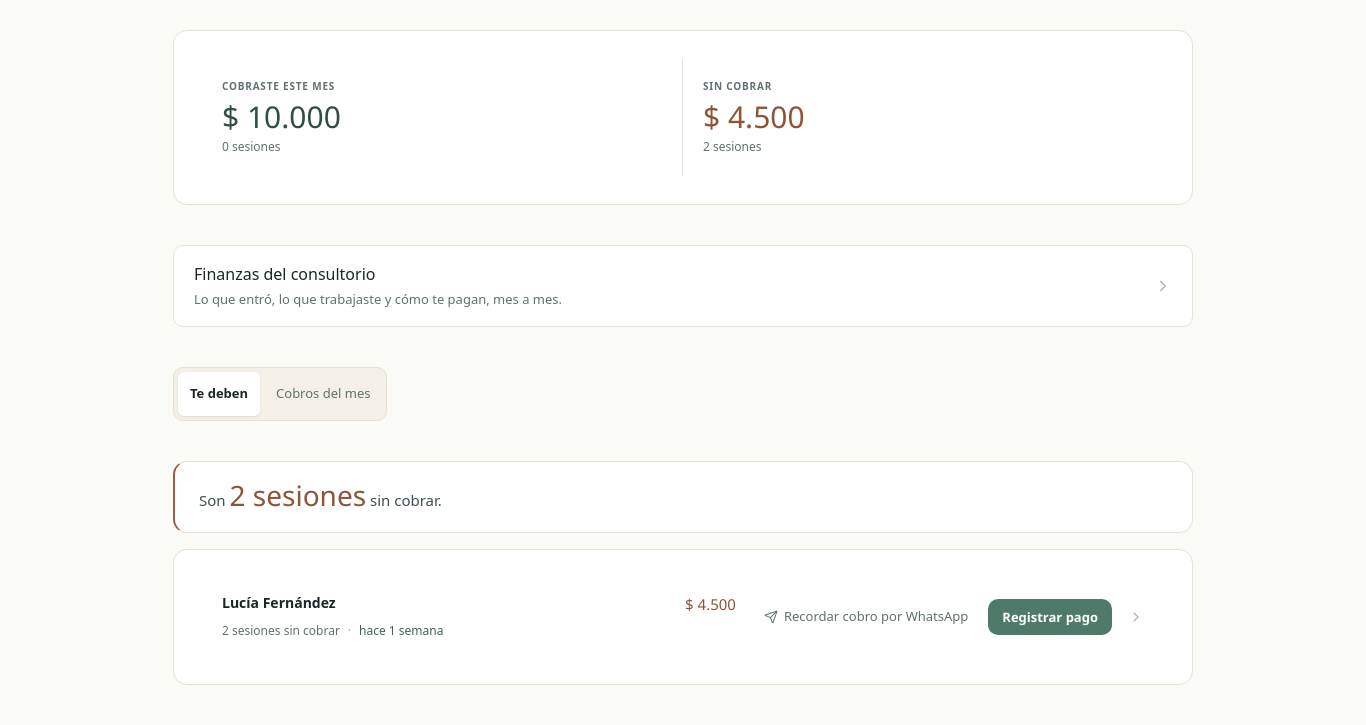
Test: Te deben: registrar pago › muestra las sesiones sin cobrar con fecha y monto, cobra la elegida y actualiza deuda e ingresos sin salir de Cobros
(page scrolled)
Click the button "Registrar pago". click: (1050, 617)
box: [988,599,1112,635]
(page scrolled)
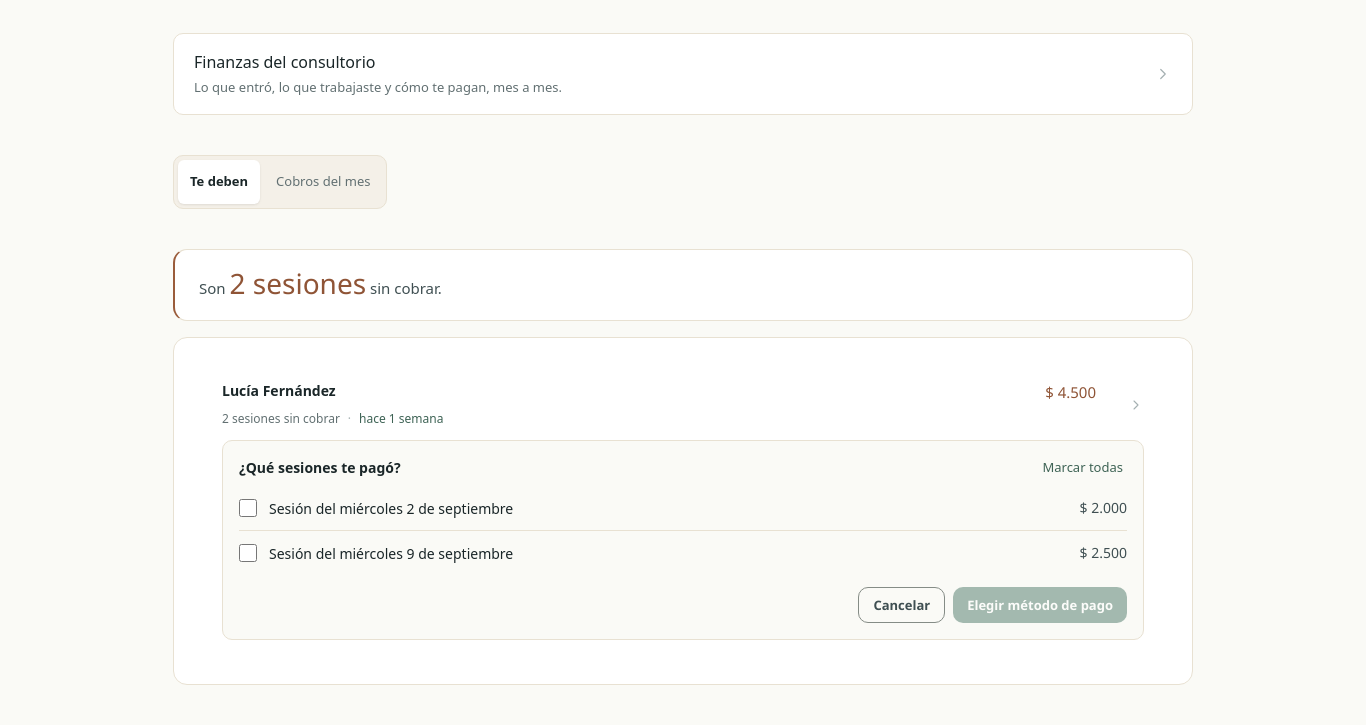
Check: the button "Elegir método de pago" is disabled, box [953,587,1127,623]
Click the checkbox labelled "Sesión del miércoles 2 de septiembre $ 2.000". click: (248, 508)
box: [239,499,257,517]
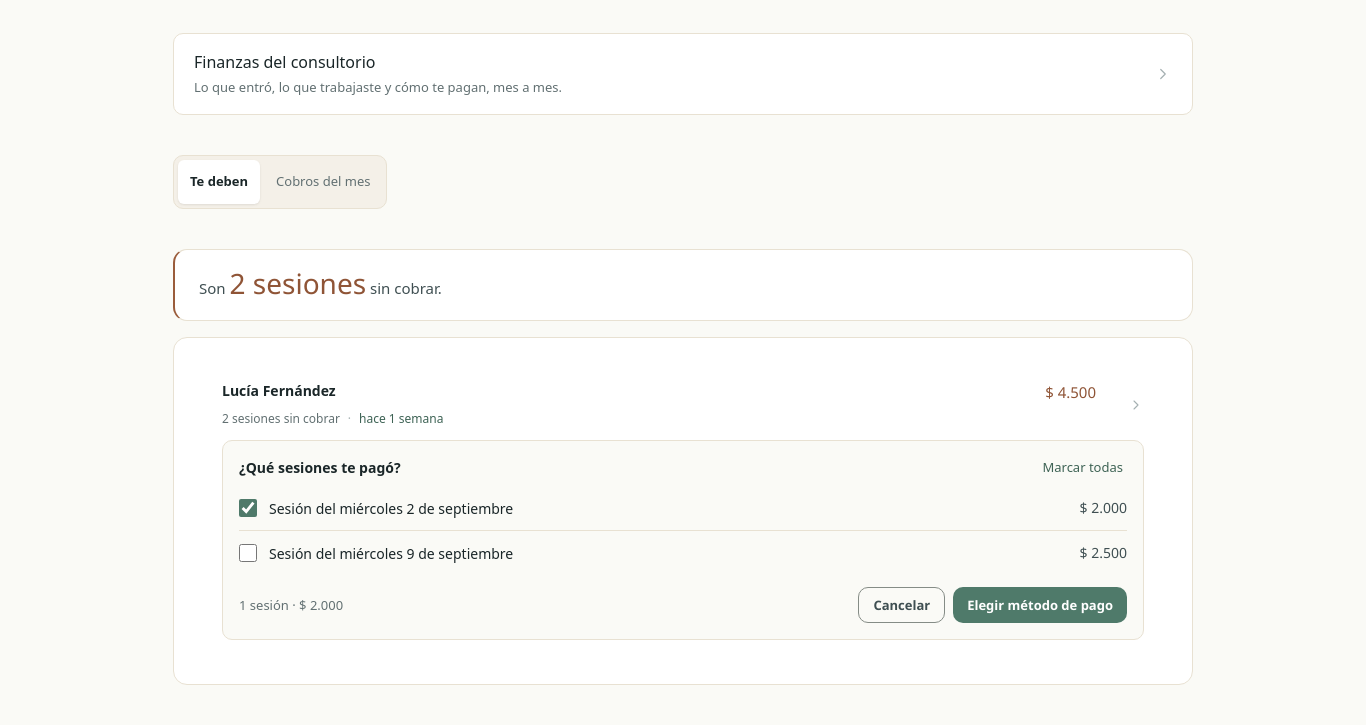
Check: the text "1 sesión · $ 2.000" is shown, box [239,596,343,615]
Click the button "Elegir método de pago". click: (1040, 605)
box: [953,587,1127,623]
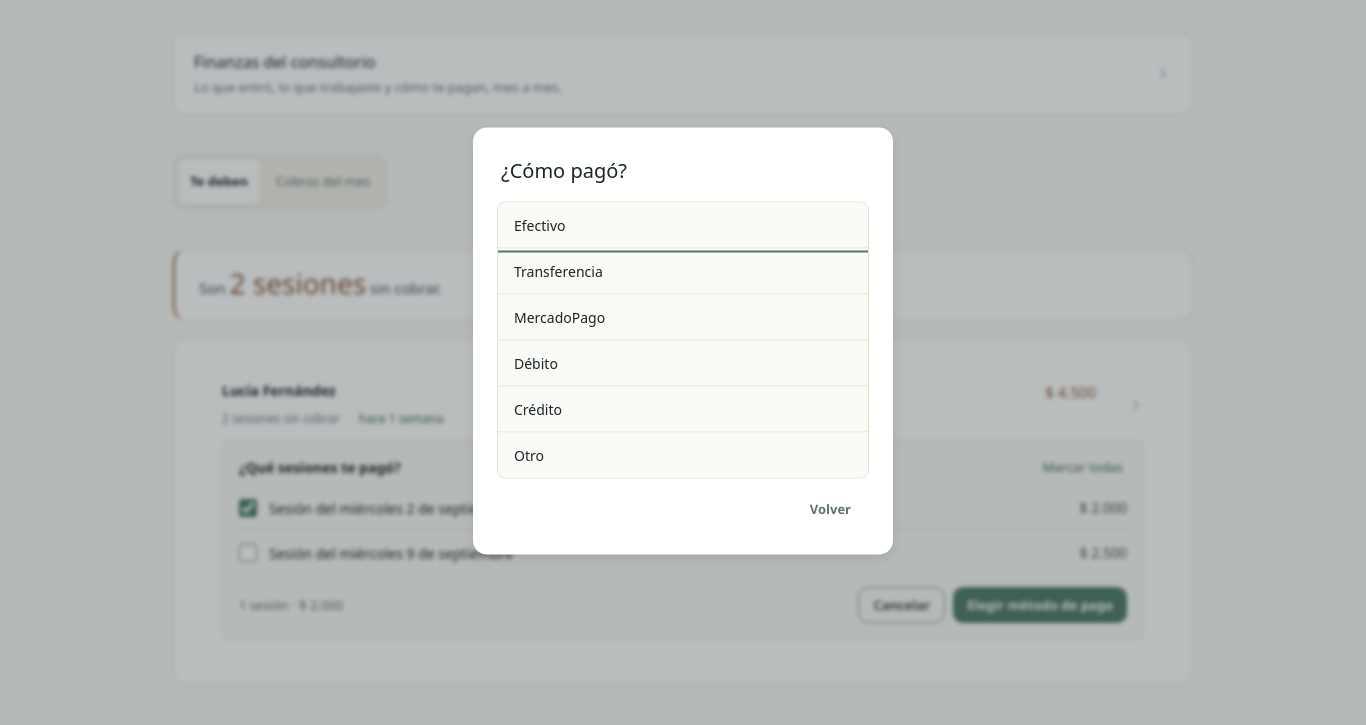
Click the button "Transferencia". click: (558, 271)
box: [498,248,868,294]
(page scrolled)
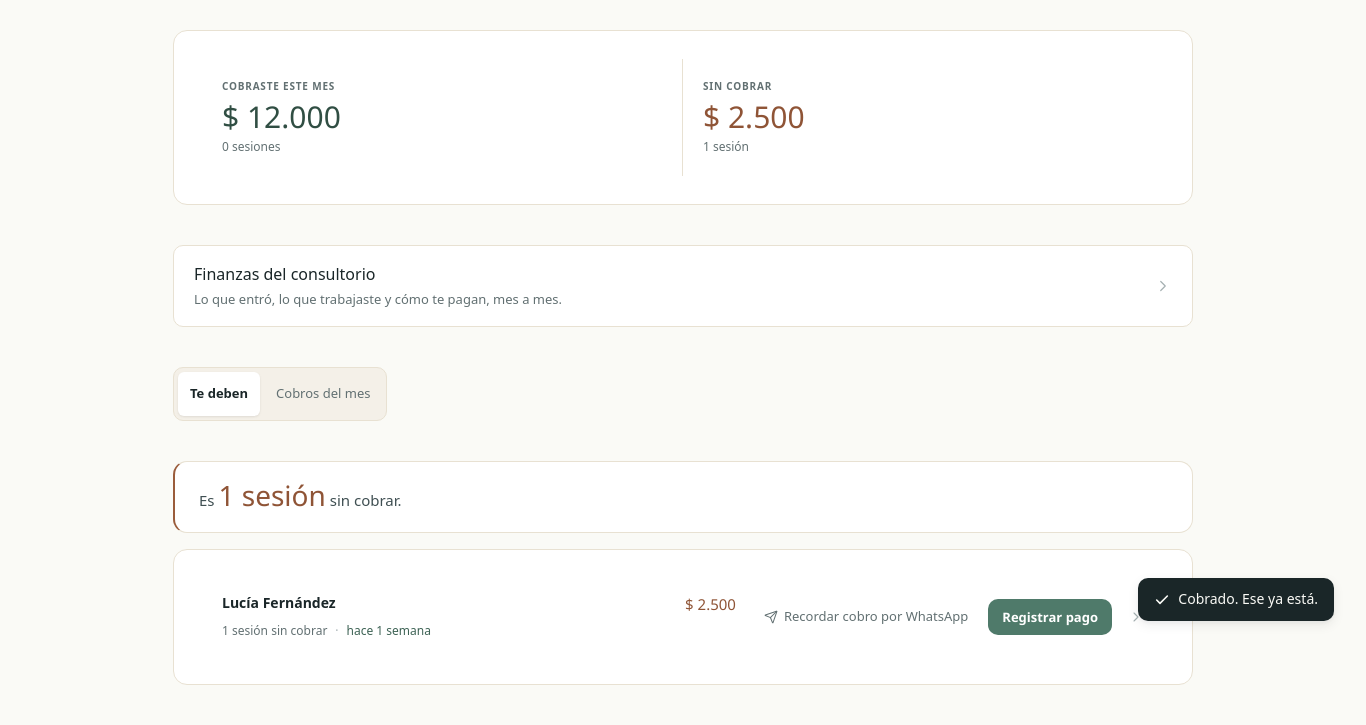
Check: the text "Cobrado. Ese ya está." is shown, box [1178,590,1318,609]
Check: the text "Es 1 sesión sin cobrar." is shown, box [199,477,402,515]
Check: the text "$ 2.500" in the row of "$ 12.000" is shown, box [703,96,805,137]
